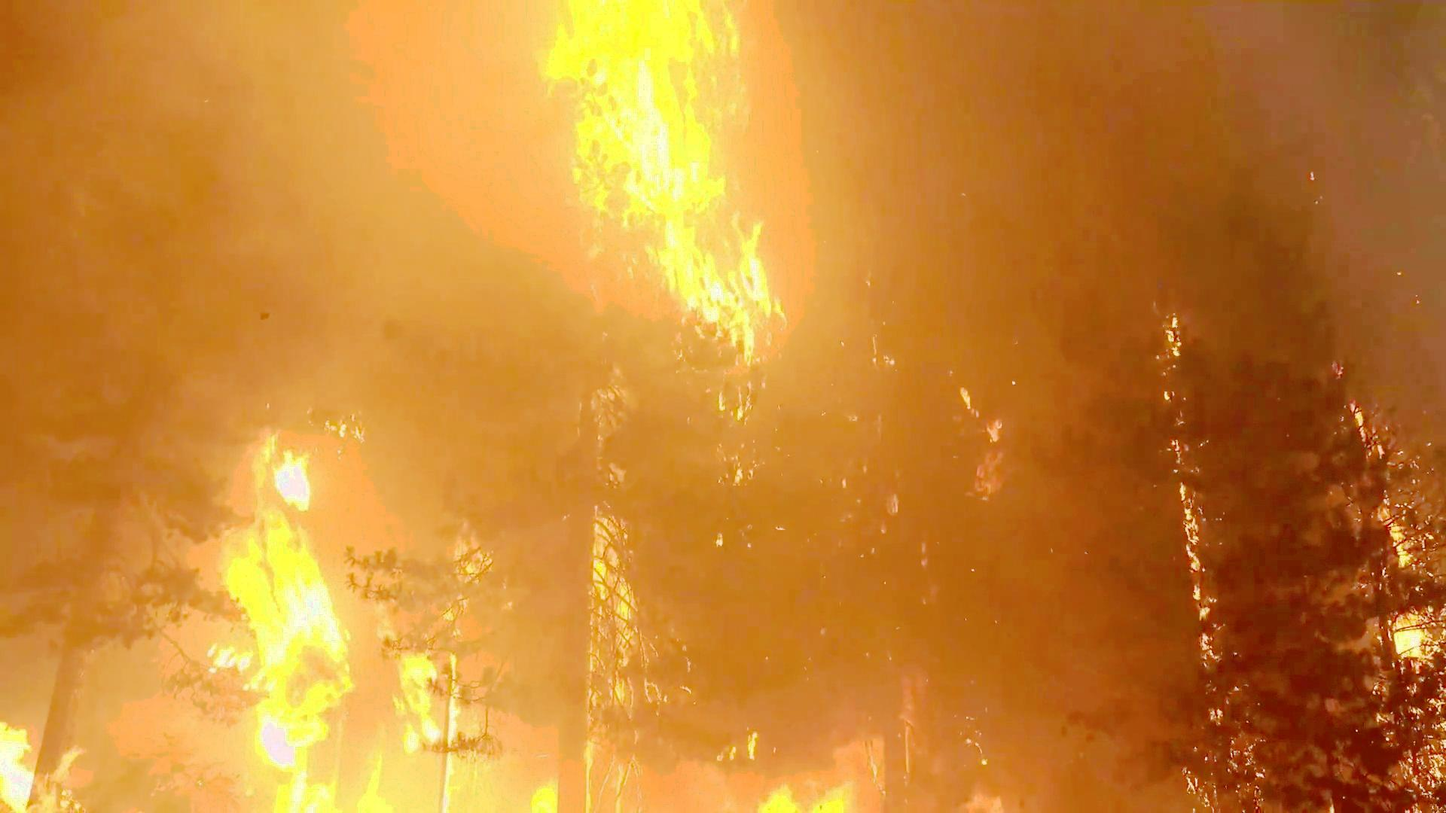fire: (539, 14, 802, 314), (223, 424, 349, 798), (319, 682, 509, 813)
